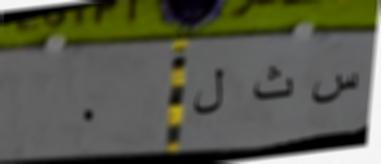0: (76, 98, 103, 133)
laam: (187, 64, 229, 125)
seen: (308, 64, 363, 111)
thaa: (251, 61, 294, 108)
